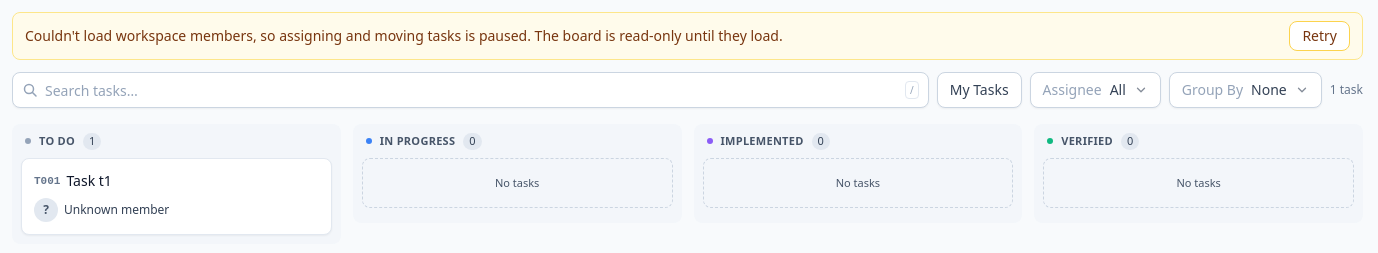
Test: TaskBoard members › explains a failed member load, offers Retry, and never prints a user id
Expected: the message shows "Couldn't load workspace members", [25,26,783,45]
Expected: the button "Task t1" is shown, [66,170,319,190]
Click the button "Retry" at x=1320, y=36, box [1289,21,1350,51]
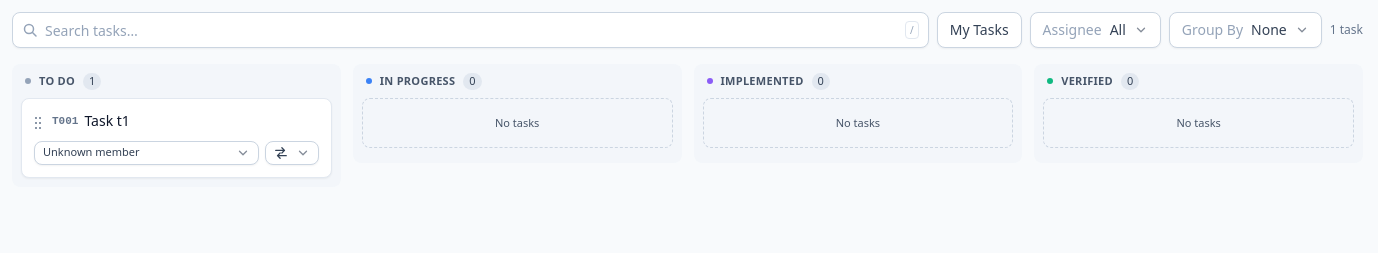
Expected: the dropdown named "Assignee for" is shown, [34,140,259,164]
Expected: the message is gone
